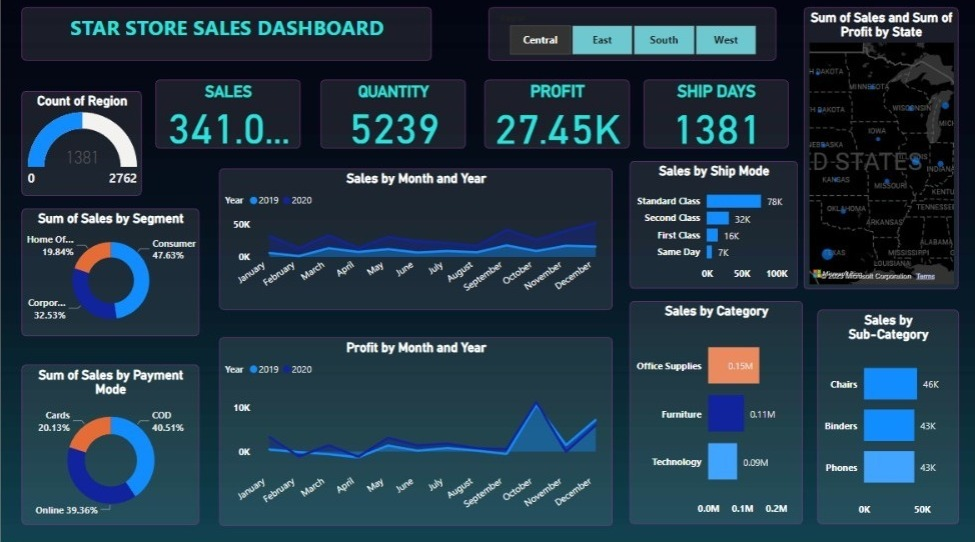

What the dashboard file says about the page in this screenshot:
{"tool":"powerbi","page":{"name":"Page 1","canvas":[1280,720],"ordinal":0},"visuals":[{"type":"clusteredBarChart","title":"Sales by Category","fields":{"Category":["SuperStore_Sales_Dataset.Category"],"Y":["Sum(SuperStore_Sales_Dataset.Sales)"]},"box":[825,404,226.5,292.6],"z":0},{"type":"clusteredBarChart","title":"Sales by Sub-Category","fields":{"Category":["SuperStore_Sales_Dataset.Sub-Category"],"Y":["Sum(SuperStore_Sales_Dataset.Sales)"]},"box":[1070.4,415.3,185,281.3],"z":1},{"type":"clusteredBarChart","title":"Sales by Ship Mode","fields":{"Category":["SuperStore_Sales_Dataset.Ship Mode"],"Y":["Sum(SuperStore_Sales_Dataset.Sales)"]},"box":[825,220,220,167.5],"z":2},{"type":"stackedAreaChart","title":"Sales by Month and Year","fields":{"Y":["Sum(SuperStore_Sales_Dataset.Sales)"],"Category":["SuperStore_Sales_Dataset.Order Date.Variation.Date Hierarchy.Month","SuperStore_Sales_Dataset.Order Date.Variation.Date Hierarchy.Day"],"Series":["SuperStore_Sales_Dataset.Order Date.Variation.Date Hierarchy.Year"]},"box":[287.5,230,515,185],"z":3},{"type":"stackedAreaChart","title":" Profit by Month and Year","fields":{"Category":["SuperStore_Sales_Dataset.Order Date.Variation.Date Hierarchy.Month","SuperStore_Sales_Dataset.Order Date.Variation.Date Hierarchy.Day"],"Series":["SuperStore_Sales_Dataset.Order Date.Variation.Date Hierarchy.Year"],"Y":["Sum(SuperStore_Sales_Dataset.Profit)"]},"box":[287.5,450,515,247.5],"z":4},{"type":"map","fields":{"Category":["SuperStore_Sales_Dataset.State"],"Size":["Sum(SuperStore_Sales_Dataset.Sales)"]},"box":[1052.5,17.5,202.5,370],"z":5},{"type":"donutChart","fields":{"Category":["SuperStore_Sales_Dataset.Segment"],"Y":["Sum(SuperStore_Sales_Dataset.Sales)"]},"box":[27.5,282.5,232.5,167.5],"z":6},{"type":"donutChart","fields":{"Category":["SuperStore_Sales_Dataset.Payment Mode"],"Y":["Sum(SuperStore_Sales_Dataset.Sales)"]},"box":[27.5,487.5,232.5,210],"z":7},{"type":"slicer","fields":{"Values":["SuperStore_Sales_Dataset.Region"]},"box":[640,17.5,377.5,70],"z":8},{"type":"textbox","box":[27.5,17.5,537.5,70],"z":9},{"type":"card","title":"SALES","fields":{"Values":["Sum(SuperStore_Sales_Dataset.Sales)"]},"box":[202.5,112.5,190,90],"z":10},{"type":"card","title":"QUANTITY","fields":{"Values":["Sum(SuperStore_Sales_Dataset.Quantity)"]},"box":[420,112.5,190,90],"z":11},{"type":"card","title":"PROFIT","fields":{"Values":["Sum(SuperStore_Sales_Dataset.Profit)"]},"box":[635,112.5,190,90],"z":12},{"type":"card","title":"SHIP DAYS","fields":{"Values":["CountNonNull(SuperStore_Sales_Dataset.Ship Date)"]},"box":[842.5,112.5,190,90],"z":13},{"type":"gauge","fields":{"Y":["CountNonNull(SuperStore_Sales_Dataset.Region)"]},"box":[27.5,127.5,157.5,137.5],"z":14}]}

Visuals, with their boxes in screenshot pixels (x1, y1, x2, y2), scaled from the page's 1280x720 canvas onto the 975x542 screenshot:
"Sales by Category" clusteredBarChart: region(628, 304, 801, 524)
"Sales by Sub-Category" clusteredBarChart: region(815, 313, 956, 524)
"Sales by Ship Mode" clusteredBarChart: region(628, 166, 796, 292)
"Sales by Month and Year" stackedAreaChart: region(219, 173, 611, 312)
" Profit by Month and Year" stackedAreaChart: region(219, 339, 611, 525)
map - SuperStore_Sales_Dataset.State x Sum(SuperStore_Sales_Dataset.Sales): region(802, 13, 956, 292)
donutChart - SuperStore_Sales_Dataset.Segment x Sum(SuperStore_Sales_Dataset.Sales): region(21, 213, 198, 339)
donutChart - SuperStore_Sales_Dataset.Payment Mode x Sum(SuperStore_Sales_Dataset.Sales): region(21, 367, 198, 525)
slicer - SuperStore_Sales_Dataset.Region: region(488, 13, 775, 66)
textbox: region(21, 13, 430, 66)
"SALES" card: region(154, 85, 299, 152)
"QUANTITY" card: region(320, 85, 465, 152)
"PROFIT" card: region(484, 85, 628, 152)
"SHIP DAYS" card: region(642, 85, 786, 152)
gauge - CountNonNull(SuperStore_Sales_Dataset.Region): region(21, 96, 141, 199)
